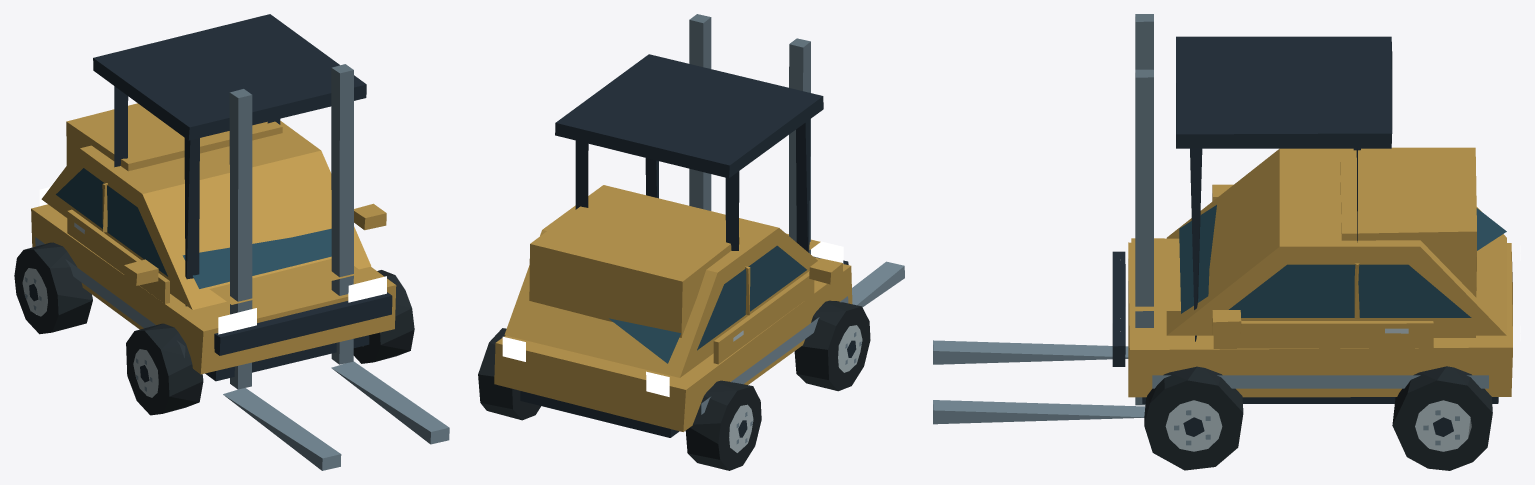
Rendered from road-forklift.lod2.glb.
The picture shows the model from 3 angles, left to right: view 1: azimuth 30°, elevation 25°; view 2: azimuth 150°, elevation 25°; view 3: azimuth 270°, elevation 25°; orthographic projection. The views are drawn at different scales.
Visible parts, largest first — view 1: road-forklift__body, road-forklift__door_-1, road-forklift__forks, road-forklift__wheel_steer_0_l, road-forklift__wheel_steer_1_l, road-forklift__wheel_steer_0_r; view 2: road-forklift__body, road-forklift__door_-1, road-forklift__wheel_steer_1_l, road-forklift__wheel_steer_0_l, road-forklift__wheel_steer_1_r, road-forklift__forks; view 3: road-forklift__body, road-forklift__door_1, road-forklift__wheel_steer_1_r, road-forklift__wheel_steer_0_r, road-forklift__forks.
Boxes of the visible parts, <box> form: road-forklift__body: <box>31,14,396,389</box>; road-forklift__door_-1: <box>56,168,169,303</box>; road-forklift__forks: <box>223,361,449,470</box>; road-forklift__wheel_steer_0_l: <box>126,323,203,415</box>; road-forklift__wheel_steer_1_l: <box>14,242,92,334</box>; road-forklift__wheel_steer_0_r: <box>353,270,414,363</box>; road-forklift__body: <box>494,14,852,437</box>; road-forklift__door_-1: <box>697,245,814,364</box>; road-forklift__wheel_steer_1_l: <box>685,380,761,470</box>; road-forklift__wheel_steer_0_l: <box>794,300,870,391</box>; road-forklift__wheel_steer_1_r: <box>478,328,540,420</box>; road-forklift__forks: <box>852,261,904,307</box>; road-forklift__body: <box>1112,14,1520,405</box>; road-forklift__door_1: <box>1213,263,1471,348</box>; road-forklift__wheel_steer_1_r: <box>1392,366,1492,470</box>; road-forklift__wheel_steer_0_r: <box>1144,366,1243,470</box>; road-forklift__forks: <box>933,340,1145,424</box>.
Bounding box in the file's own units: 2.24 × 2.69 × 4.01.
